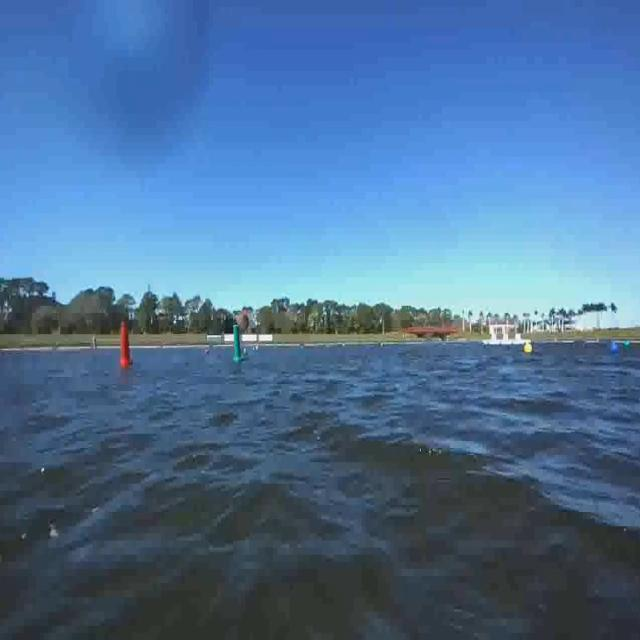green-column-buoy: (230, 319, 248, 369)
red-column-buoy: (116, 315, 132, 373)
